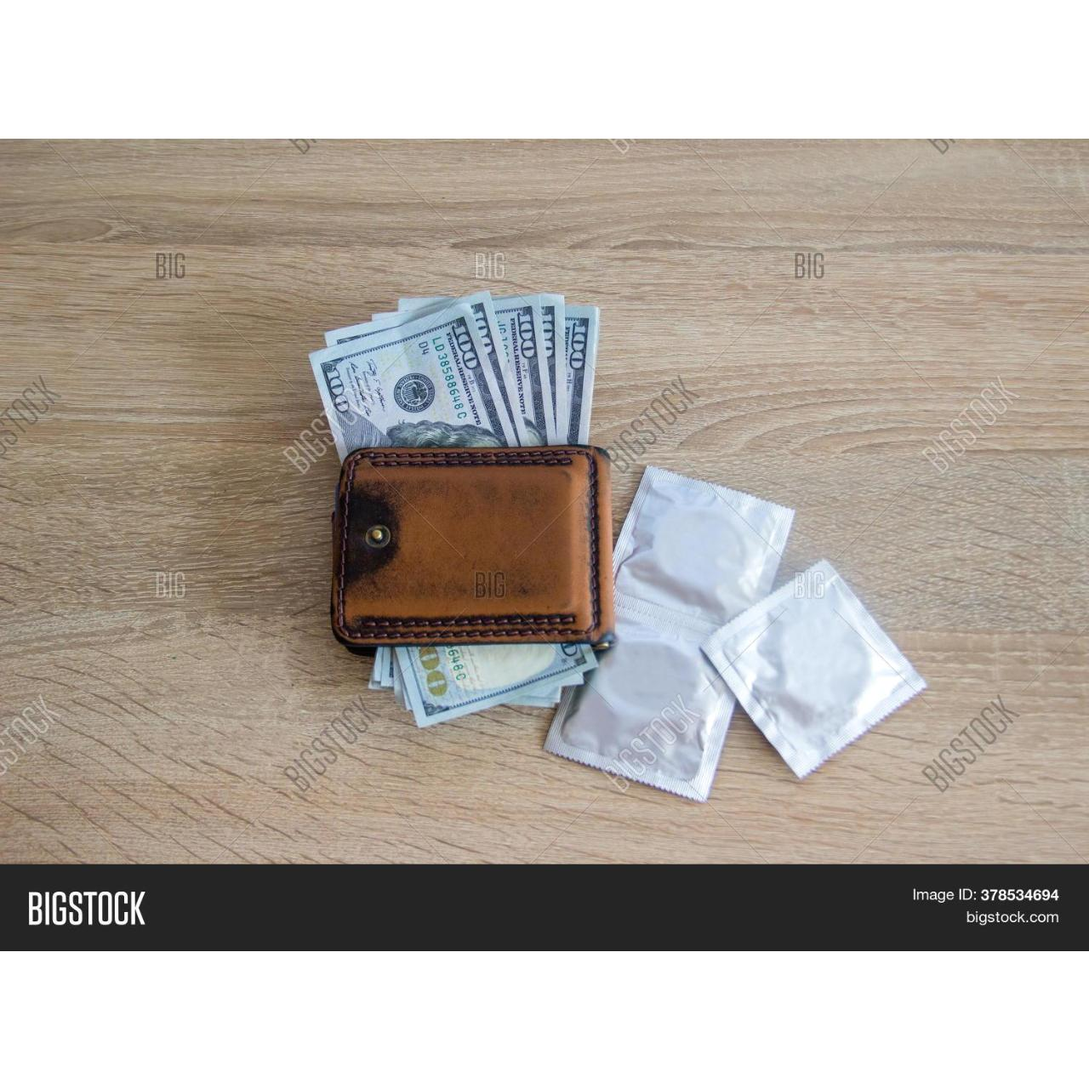wallet: (326, 450, 610, 635)
